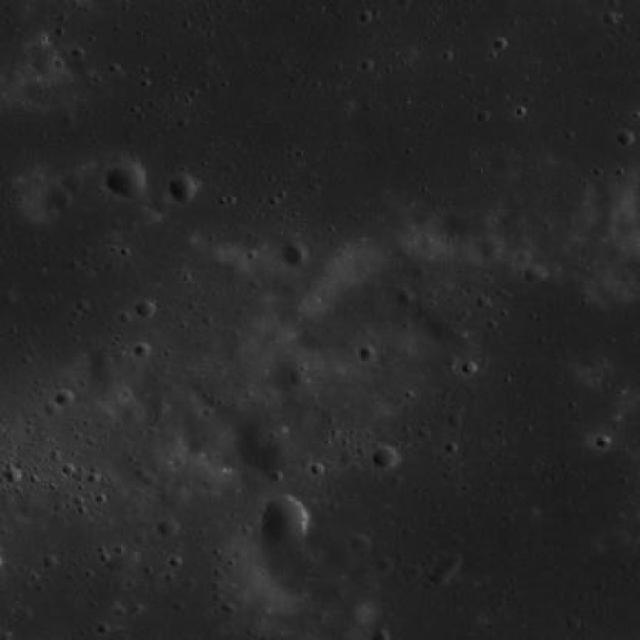crater: (260, 497, 312, 543), (105, 162, 147, 200), (168, 174, 200, 202), (44, 184, 72, 210), (280, 245, 308, 268), (478, 238, 504, 260), (373, 448, 399, 470), (116, 550, 141, 572), (262, 432, 286, 454), (434, 558, 458, 578), (524, 264, 546, 284), (62, 172, 84, 192), (135, 299, 157, 318), (159, 519, 179, 538), (616, 130, 636, 147), (358, 346, 377, 362), (56, 390, 75, 406), (396, 289, 414, 305), (352, 536, 370, 552), (0, 0, 2, 2)
